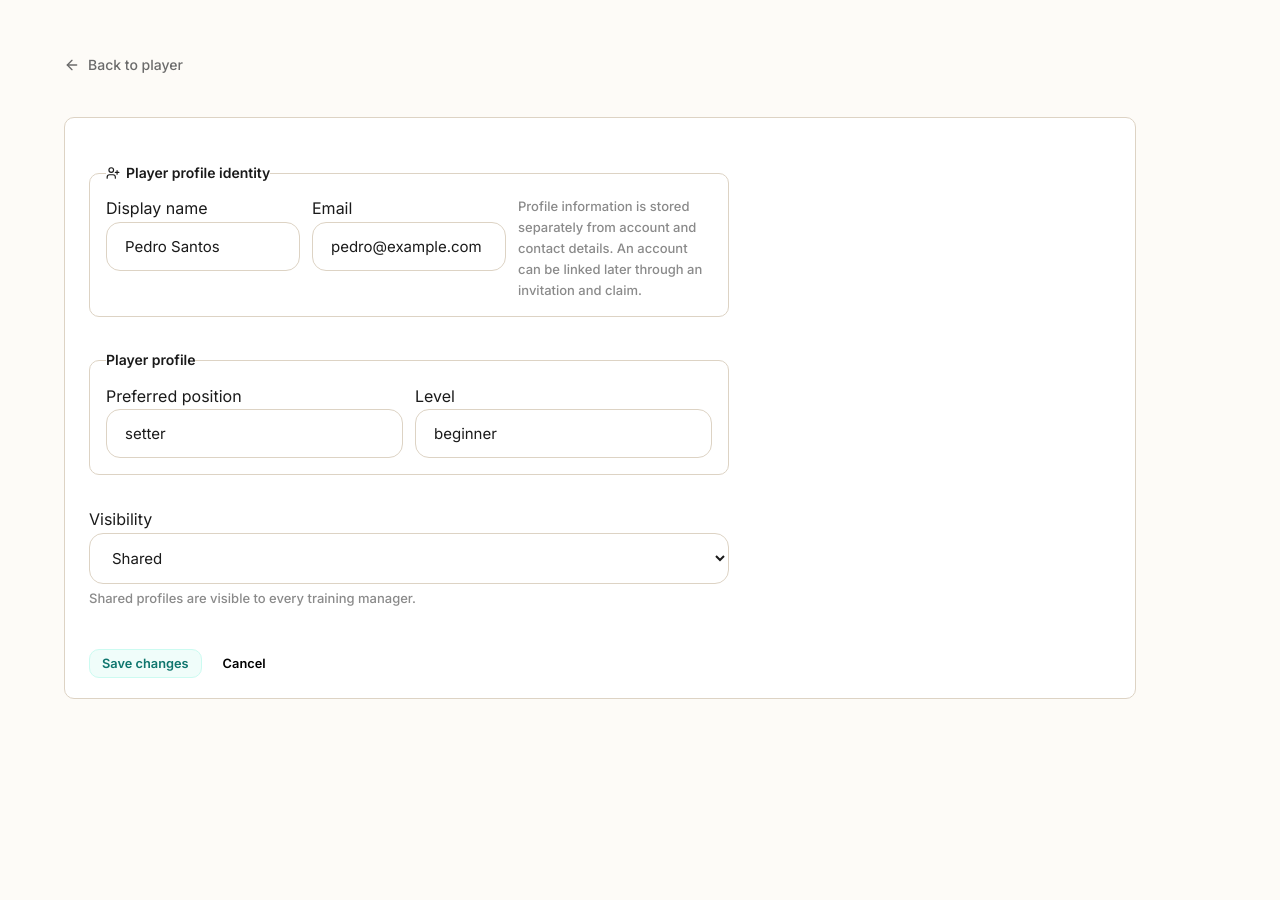
it: Profile edit page › requires a profile display name before submitting
The width and height of the screenshot is (1280, 900).
Clear the field labelled "Display name". click: (203, 246)
box: [106,222,300,271]
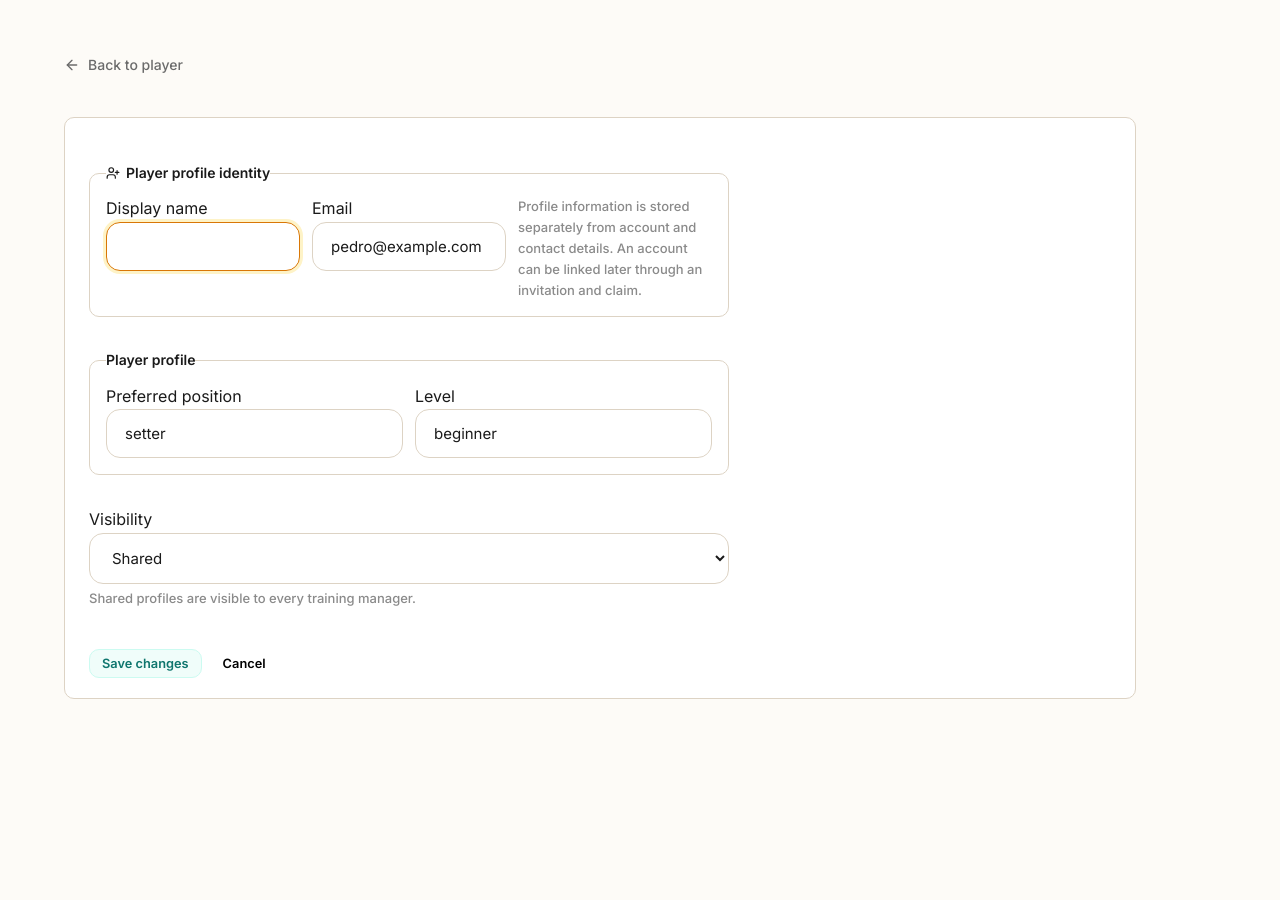
Click the button "Save changes". click: (145, 663)
box: [89,649,202,678]
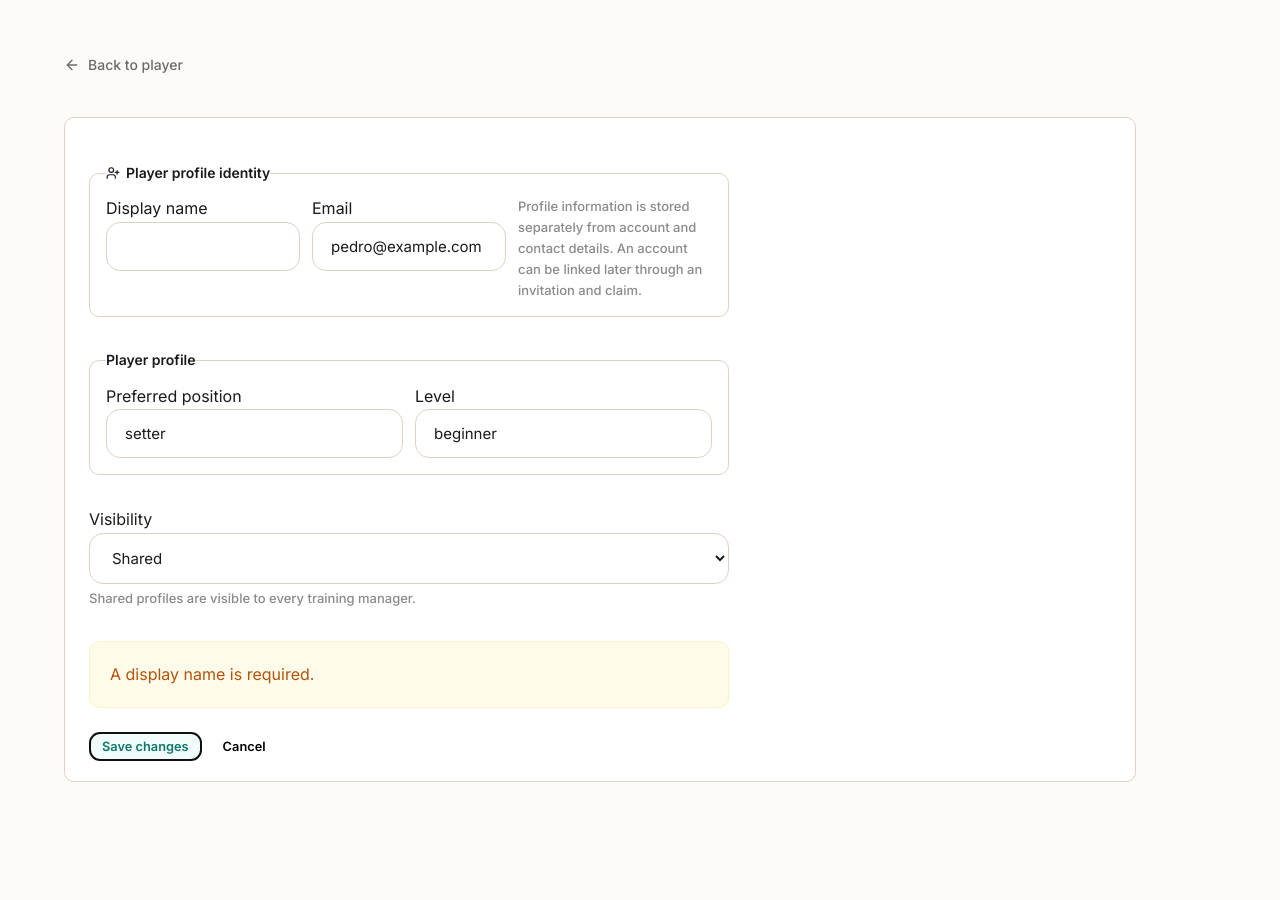
Now the list item "A display name is required." is shown, box [110,664,314,684]
